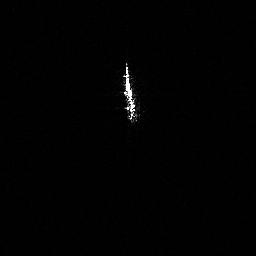ship: (119, 58, 142, 124)
